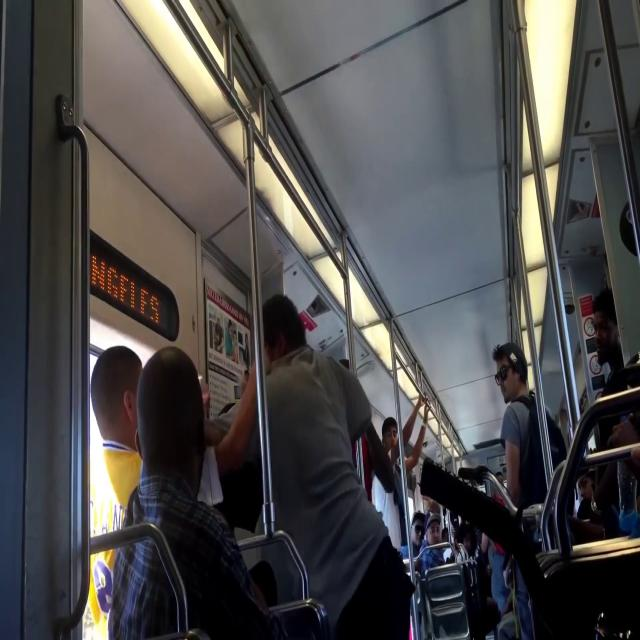non_violence: (489, 338, 565, 497)
violence: (93, 297, 408, 640)
